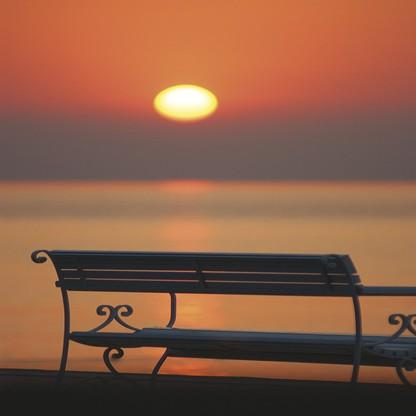obstacle: (20, 236, 396, 393)
